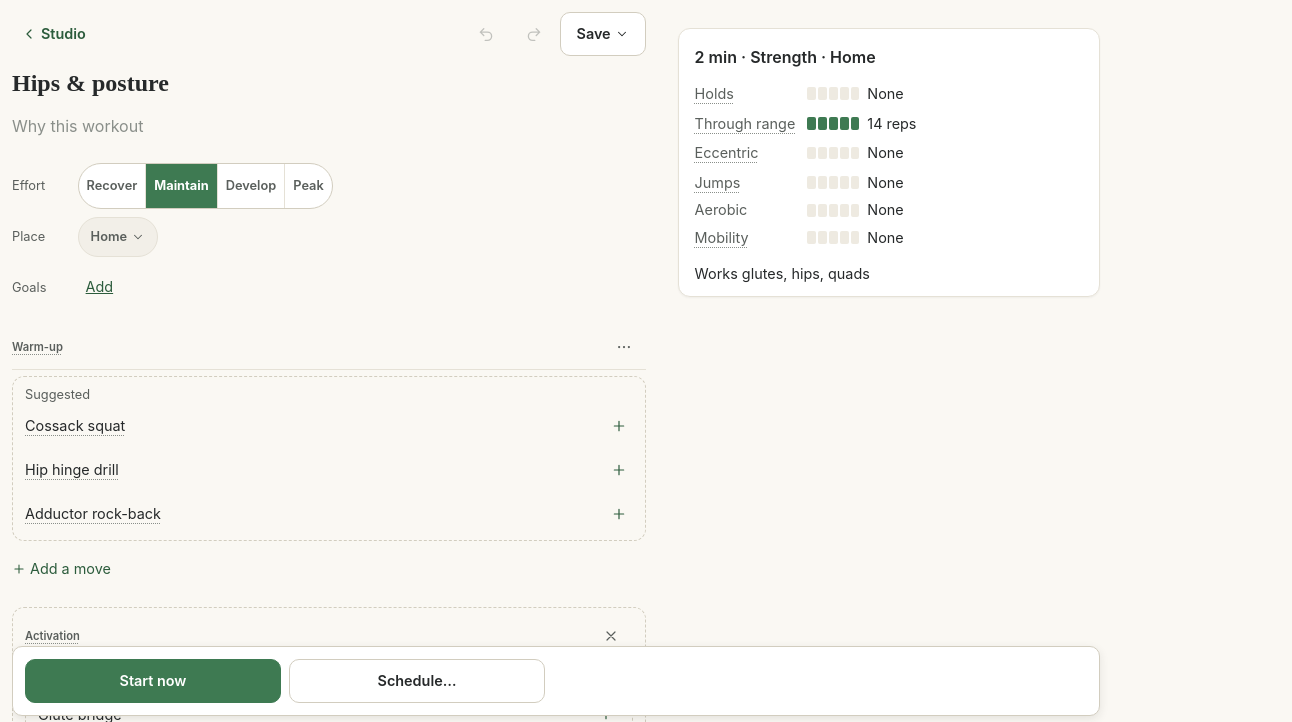
Test: the footer › an edit moves on from a refusal
What coordinates should you click on to do the following:
click the button with class "stu-build-start"
I would click on:
 (153, 681)
Its box is x1=25 y1=659 x2=281 y2=703.
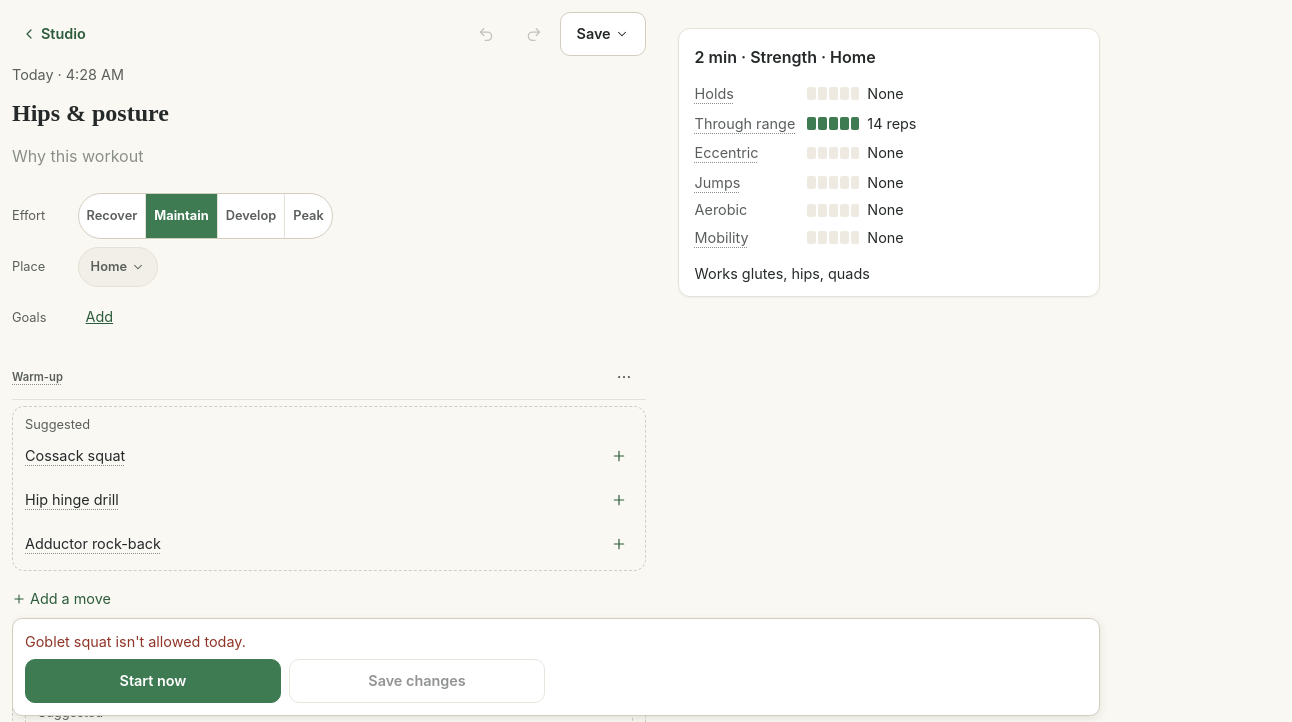
What coordinates should you click on to do the following:
click the radio button labelled "Develop"
I would click on:
 (250, 216)
Its box is x1=217 y1=194 x2=284 y2=238.
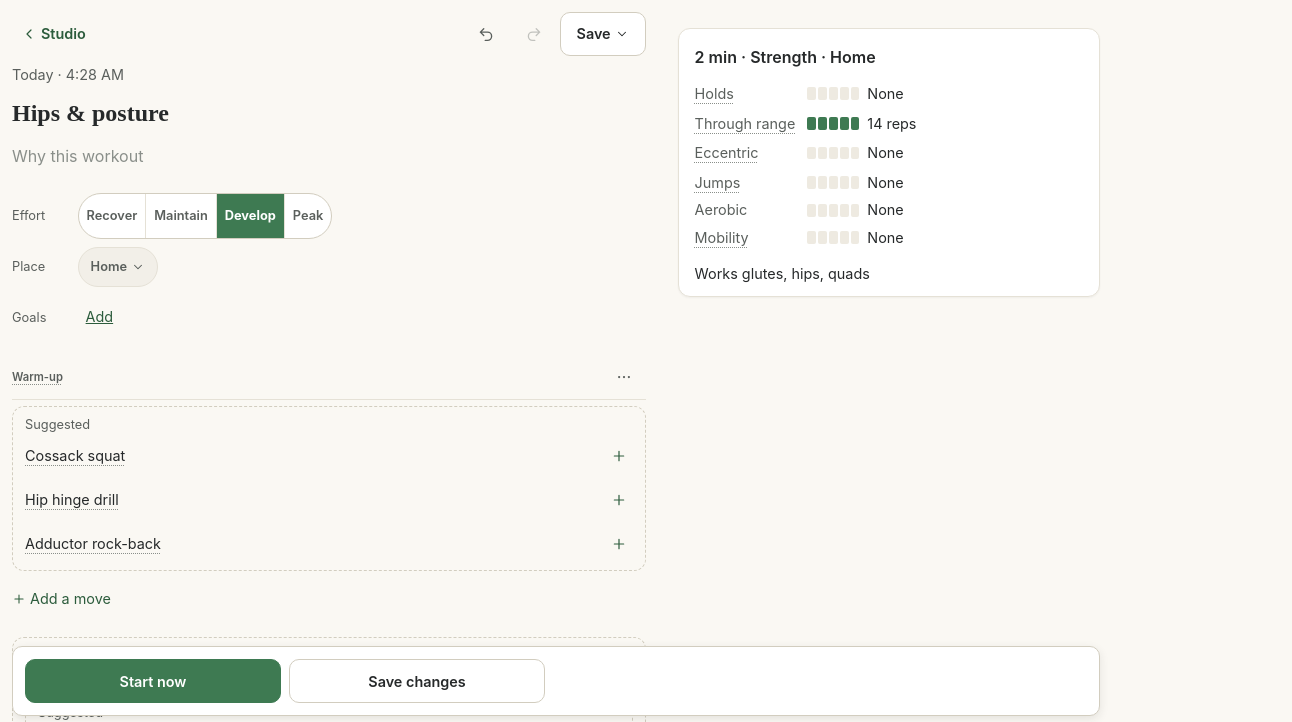
Check: the text "Goblet squat isn't allowed today." is gone
